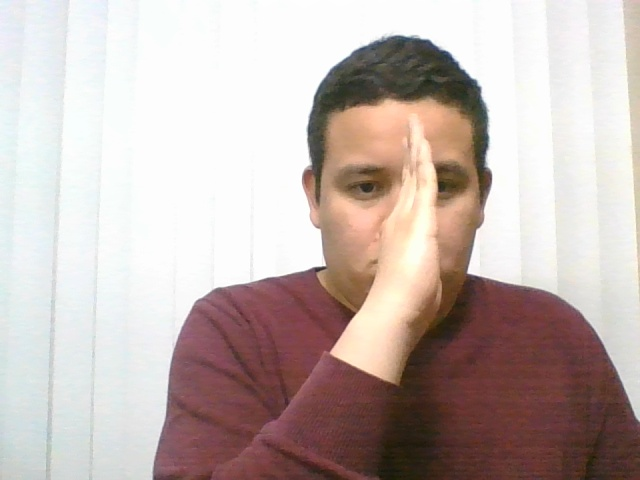God: (292, 93, 528, 380)
